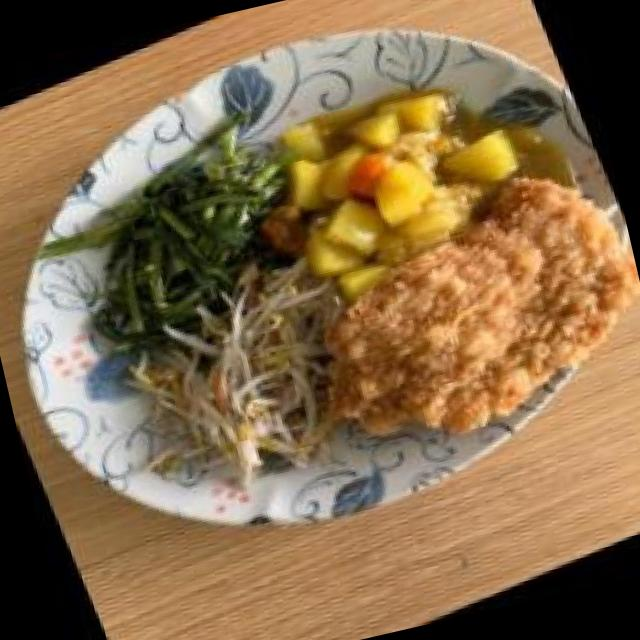curry: (276, 58, 516, 284)
fried_chicken: (310, 180, 640, 445)
mung_bean_sprouts: (114, 257, 371, 513)
water_spinach: (76, 141, 305, 335)
